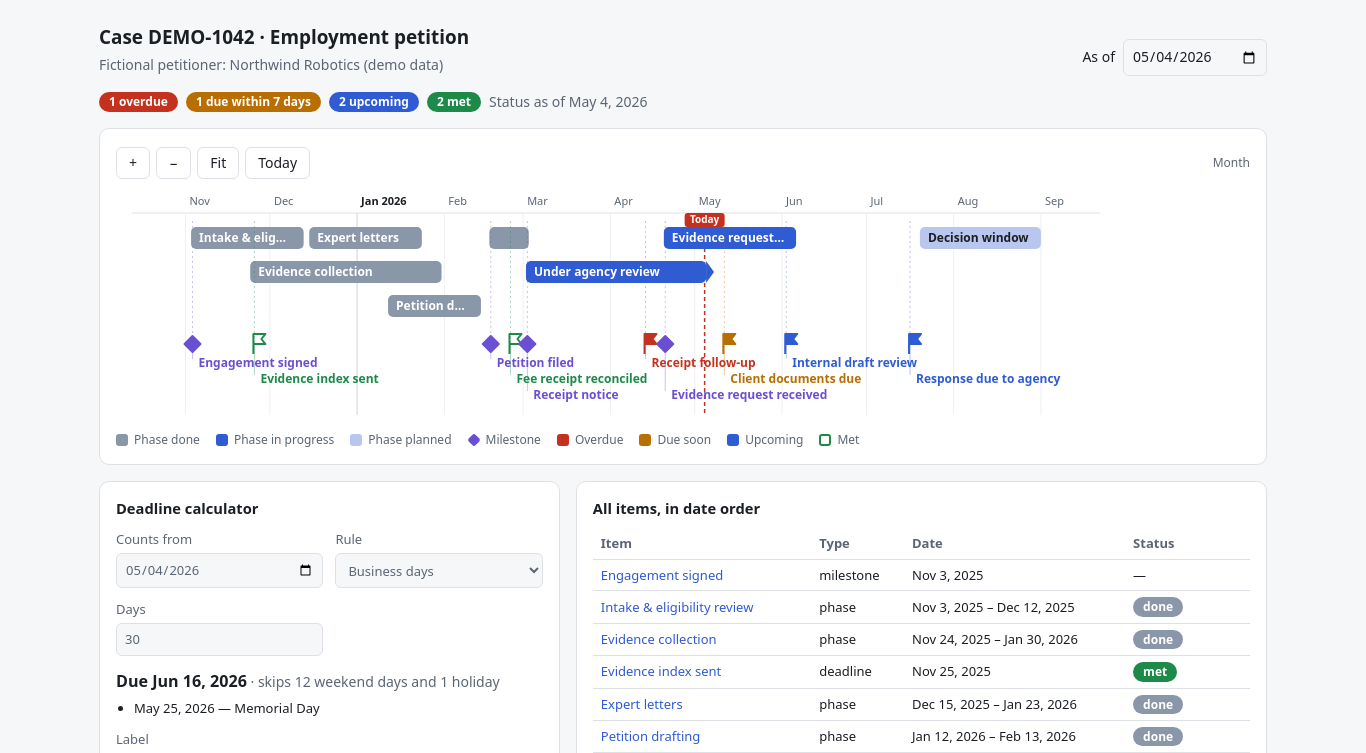
Test: <App> › recomputes statuses when the "as of" date changes
Native date inputs emit one complete value per change.
Type "2026-08-01" into the date field labelled "As of". click: [1195, 58]
box: [1123,39,1267,76]
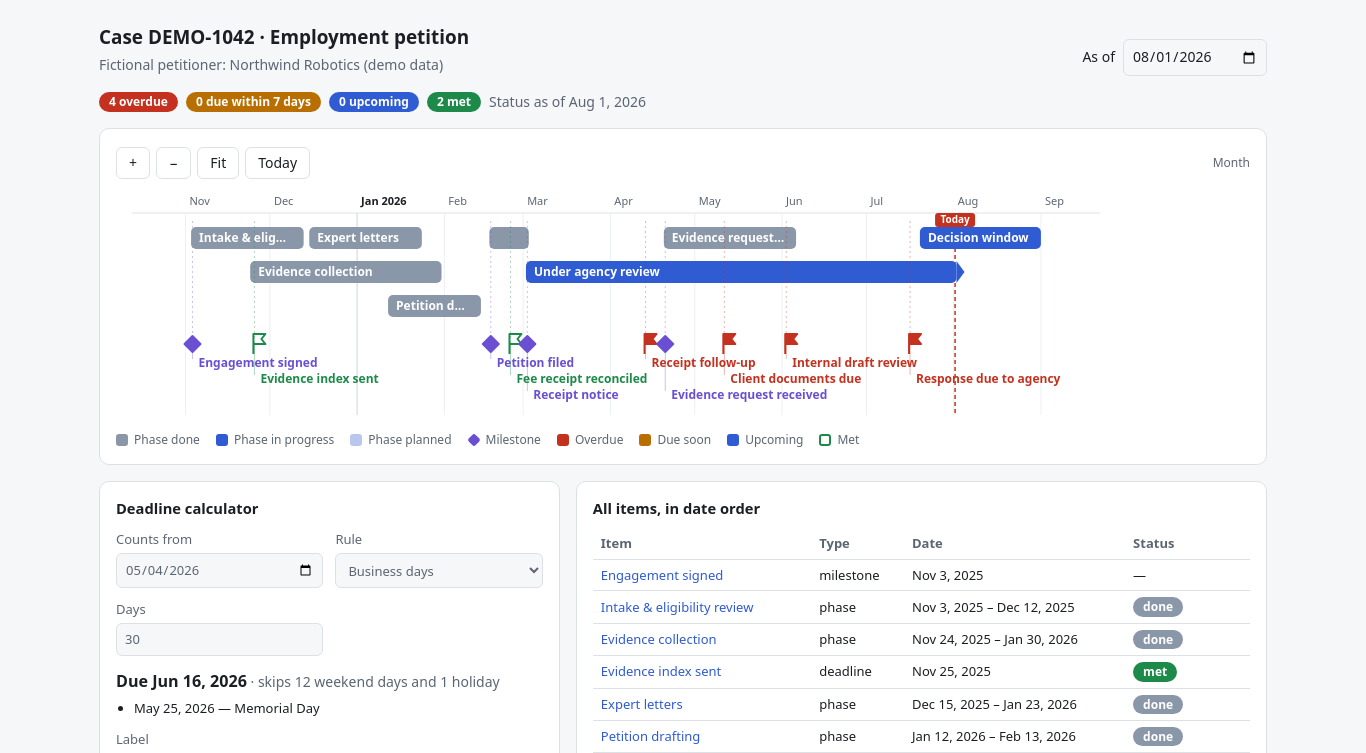
Expected: the element named "Deadline summary" shows "4 overdue", [99,92,646,112]
